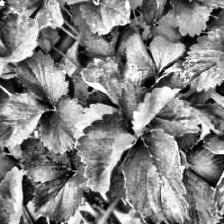Powdery Mildew Leaf: (118, 71, 188, 130), (148, 95, 206, 137), (78, 0, 132, 36), (0, 165, 24, 224), (190, 101, 224, 133), (199, 113, 224, 155), (0, 0, 42, 16)
